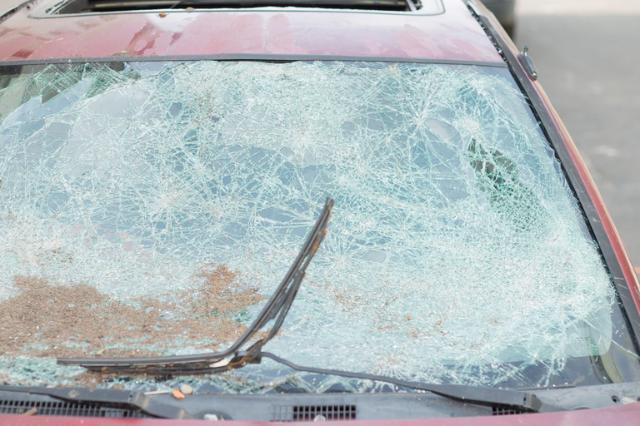Windshield: (1, 59, 637, 392)
